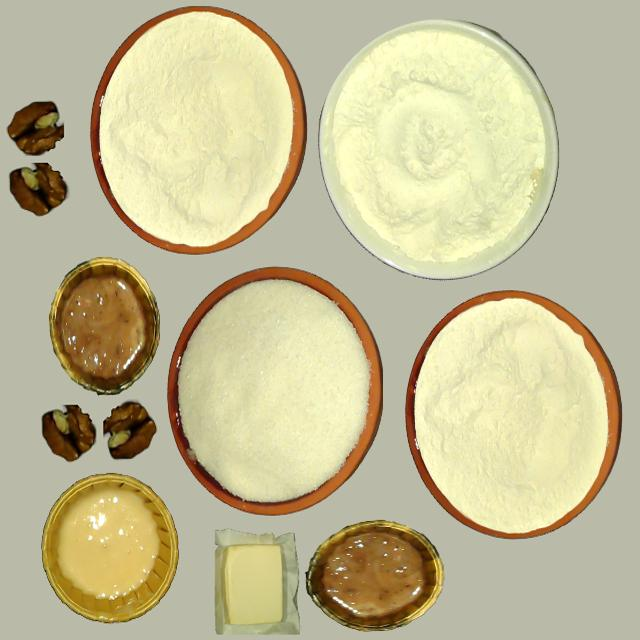Flour: (405, 289, 621, 536)
Sugar: (168, 267, 385, 518)
